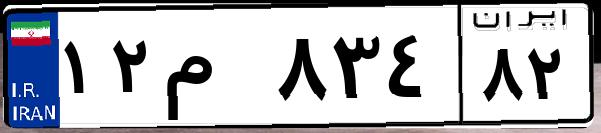1: (57, 26, 110, 100)
2: (525, 38, 570, 115), (110, 28, 158, 98)
3: (330, 28, 385, 110)
4: (385, 28, 445, 110)
8: (270, 28, 330, 110), (475, 38, 525, 113)
م: (158, 20, 270, 120)
